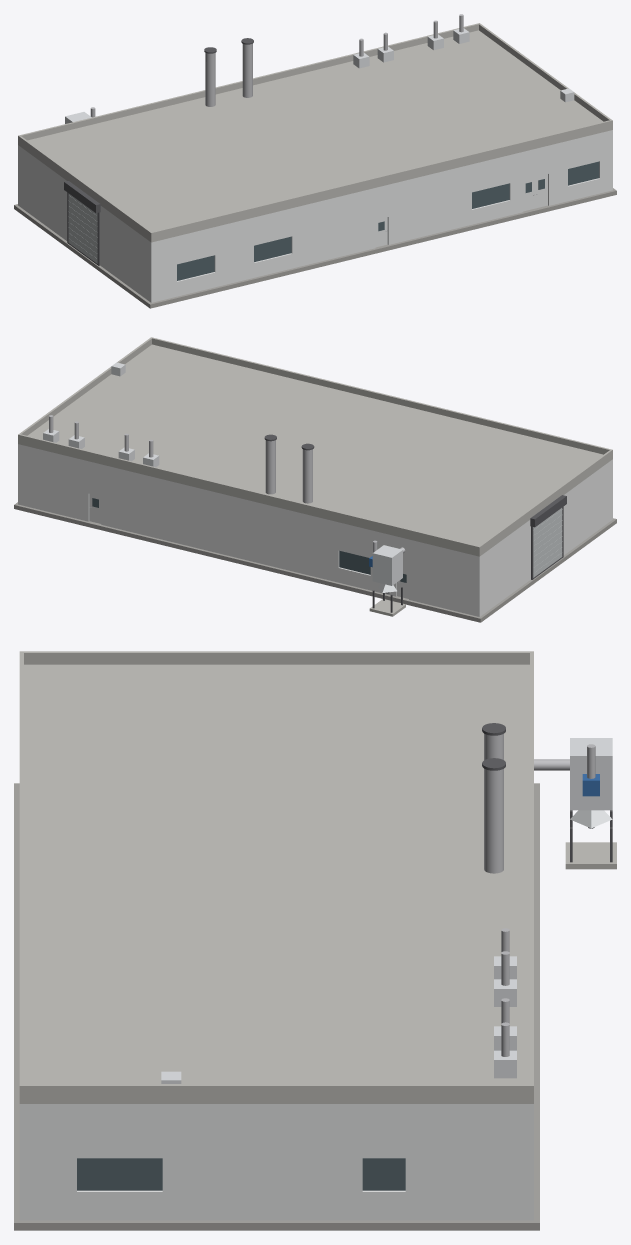
The model's file is SM_Laboratory.fbx.
3 views of the same model, one above another, from view 1: azimuth 30°, elevation 25°; view 2: azimuth 150°, elevation 25°; view 3: azimuth 270°, elevation 25° (orthographic). The views are drawn at different scales.
Visible parts, largest first — view 1: LB_Roof, LB_Walls, LB_Floor, LB_RoofPlant, LB_Shutter_West, LB_DoorFrames, LB_Door_Main_L, LB_Door_Main_R; view 2: LB_Roof, LB_Walls, LB_Floor, LB_RoofPlant, LB_DustCollector, LB_Shutter_West, LB_DoorFrames; view 3: LB_Roof, LB_Walls, LB_Floor, LB_RoofPlant, LB_DustCollector.
Boxes of the visible parts, left/top/right/bottom form: LB_Roof: left=18, top=23, right=612, bottom=242; LB_Walls: left=18, top=130, right=612, bottom=302; LB_Floor: left=14, top=188, right=616, bottom=308; LB_RoofPlant: left=204, top=14, right=574, bottom=106; LB_Shutter_West: left=68, top=193, right=97, bottom=264; LB_DoorFrames: left=64, top=181, right=100, bottom=265; LB_Door_Main_L: left=523, top=177, right=535, bottom=211; LB_Door_Main_R: left=535, top=174, right=547, bottom=208; LB_Roof: left=18, top=337, right=612, bottom=556; LB_Walls: left=18, top=444, right=612, bottom=616; LB_Floor: left=14, top=502, right=616, bottom=622; LB_RoofPlant: left=43, top=362, right=314, bottom=503; LB_DustCollector: left=369, top=540, right=405, bottom=616; LB_Shutter_West: left=533, top=508, right=562, bottom=578; LB_DoorFrames: left=530, top=495, right=566, bottom=579; LB_Roof: left=19, top=651, right=533, bottom=1103; LB_Walls: left=19, top=1104, right=533, bottom=1220; LB_Floor: left=14, top=783, right=539, bottom=1230; LB_RoofPlant: left=161, top=723, right=516, bottom=1083; LB_DustCollector: left=534, top=738, right=616, bottom=869.
Size of the model in its own units: 3656 by 915 by 2110.
